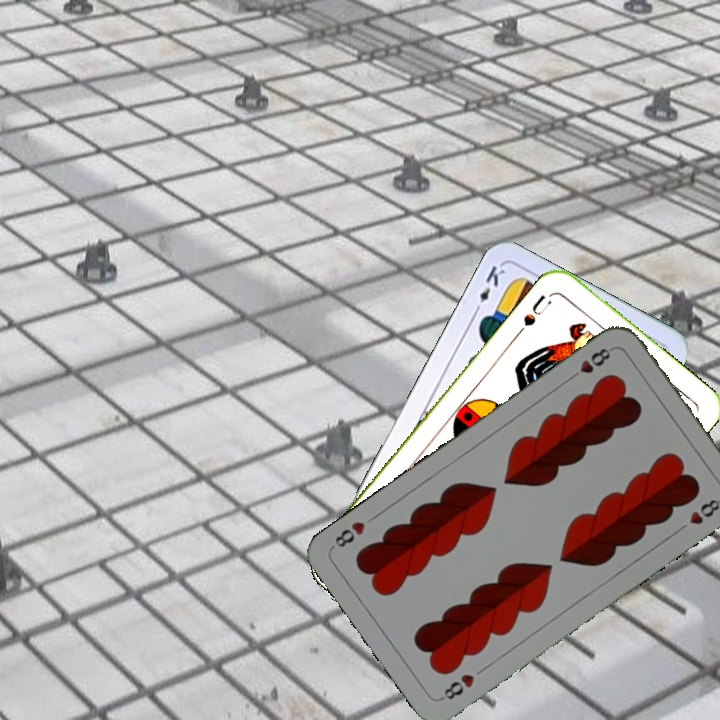EK: (469, 261, 508, 317)
H8: (565, 343, 616, 383), (436, 670, 477, 703)
SU: (513, 289, 556, 338)
